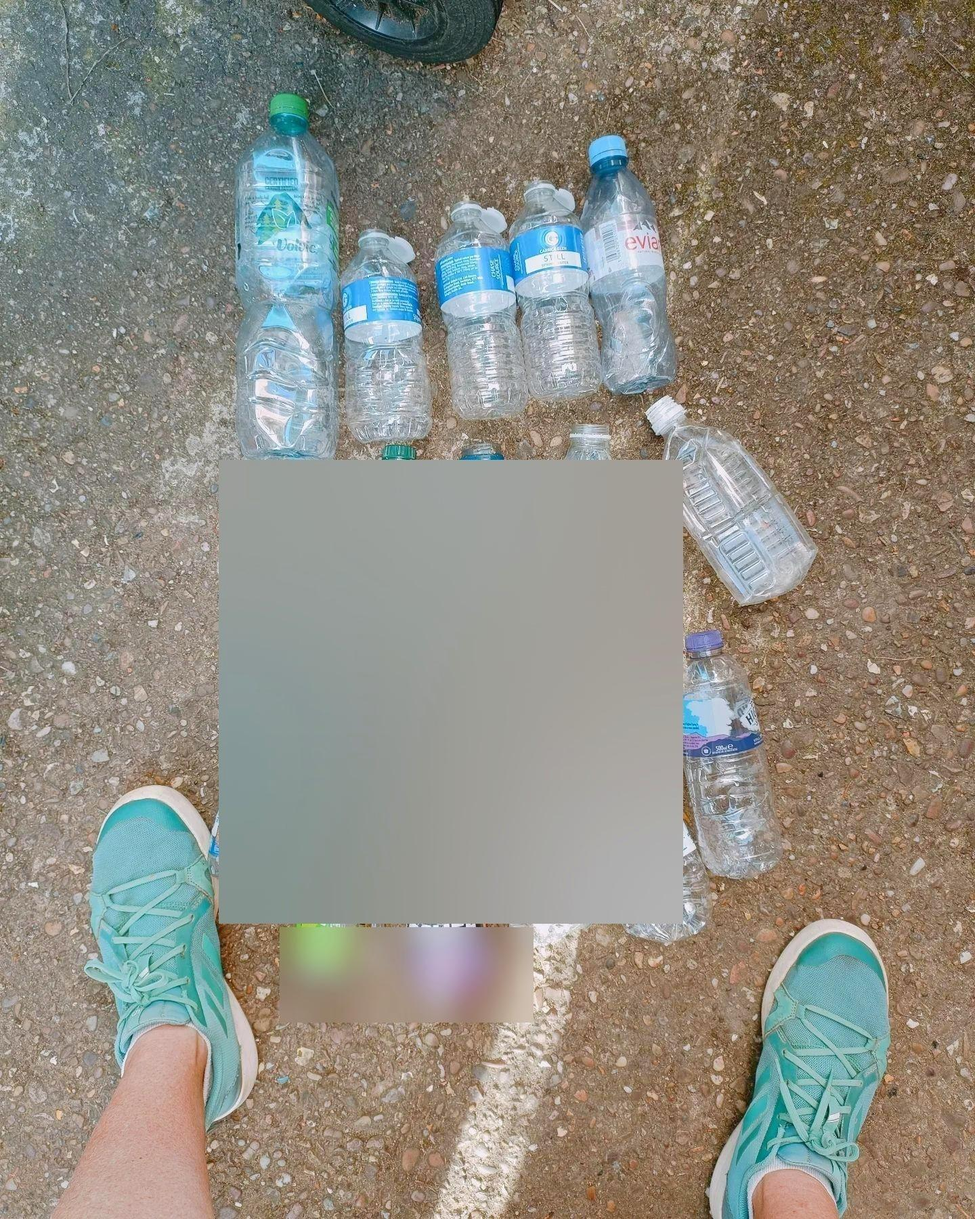bottle-plastic: (226, 87, 347, 476), (640, 395, 821, 612), (672, 630, 799, 885), (578, 129, 681, 396), (437, 192, 534, 432), (510, 175, 604, 404), (341, 220, 434, 451)
